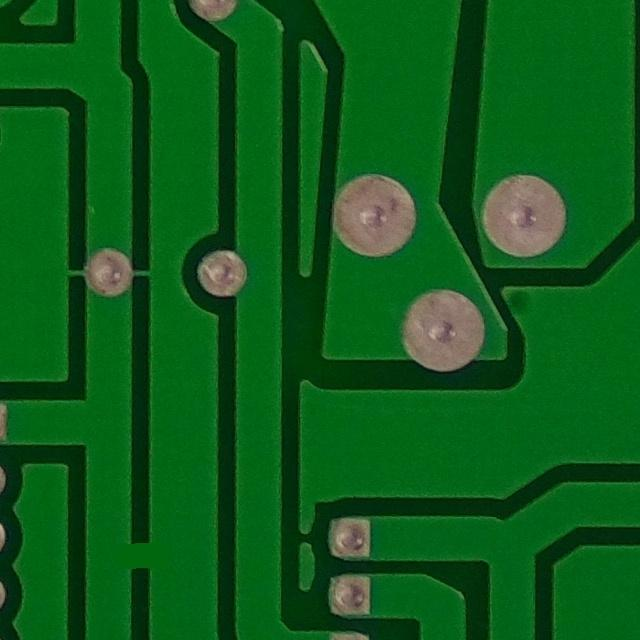short: (95, 482, 202, 622)
